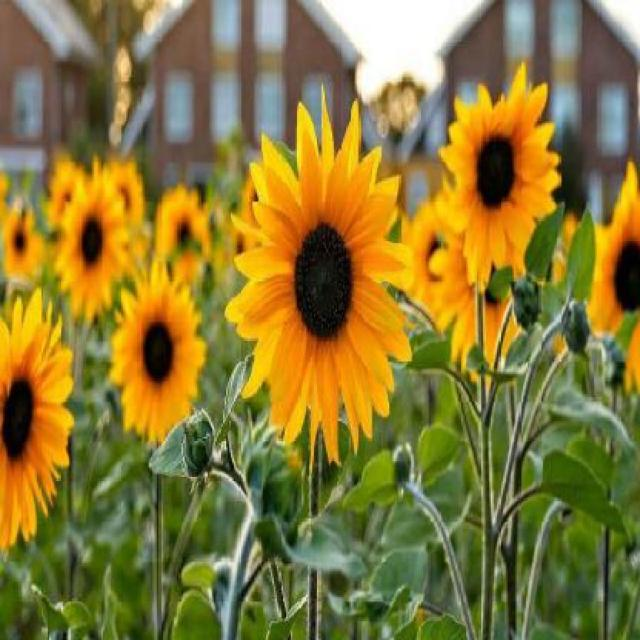sunflower: (222, 82, 422, 473), (435, 53, 567, 295), (0, 281, 76, 559), (106, 253, 210, 448), (56, 175, 130, 322)
